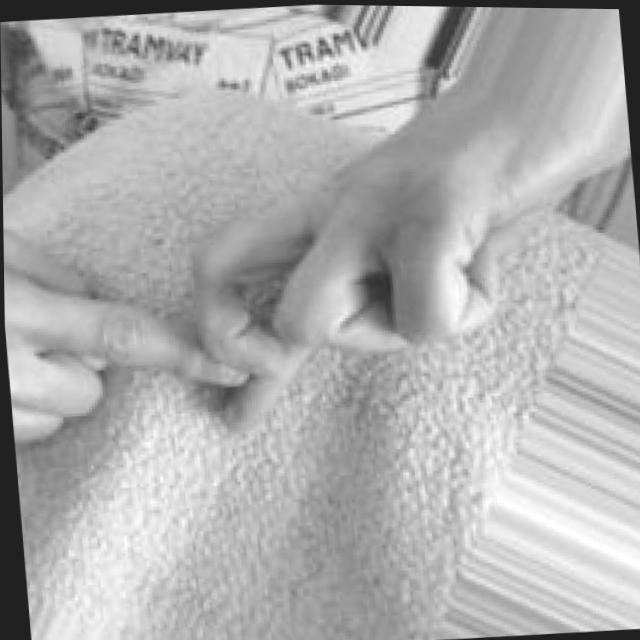R: (1, 71, 548, 477)
